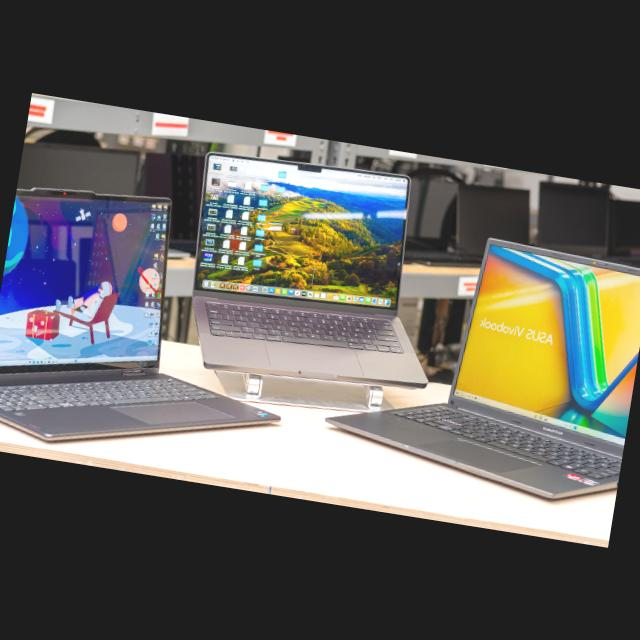laptop: (0, 170, 320, 475), (316, 209, 640, 499), (176, 138, 442, 397)
